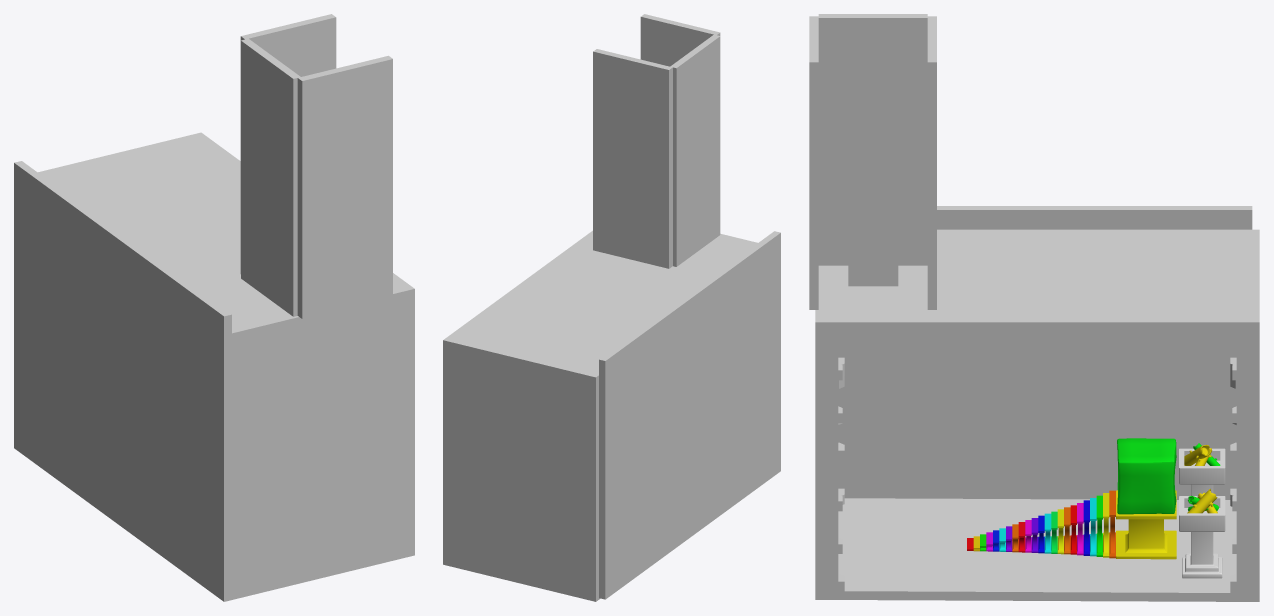
The model's file is LevelEnd.fbx.
The picture shows the model from 3 angles, left to right: view 1: azimuth 30°, elevation 25°; view 2: azimuth 150°, elevation 25°; view 3: azimuth 270°, elevation 25°; orthographic projection. The views are drawn at different scales.
Parts seen in each view (by area): view 1: Wall, Wall1_Lopoly.059, Wall1_Lopoly.073, Wall1_Lopoly.071, Wall1_Lopoly.077, Wall1_Lopoly.075, Wall1_Lopoly.062, Wall1_Lopoly.060, Wall1_Lopoly.072, Wall1_Lopoly.074, Wall1_Lopoly.076, Wall1_Lopoly.078 (+59 smaller); view 2: Wall, Wall1_Lopoly.061, Wall1_Lopoly.060, Wall1_Lopoly.063, Wall1_Lopoly.069, Wall1_Lopoly.065, Wall1_Lopoly.067, Wall1_Lopoly.062, Wall1_Lopoly.064, Wall1_Lopoly.066, Wall1_Lopoly.070, Wall1_Lopoly.068 (+59 smaller); view 3: Wall, Slime, Wall1_Lopoly.057, Wall1_Lopoly.058, Wall1_Lopoly.021, Wall1_Lopoly.049, Wall1_Lopoly.051, Wall1_Lopoly.055, Wall1_Lopoly.013, Wall1_Lopoly.053, Cube.057, Wall1_Lopoly.011 (+45 smaller).
Part boxes in pixels (x1,y1,x2,y2): Wall: [38, 132, 414, 599]; Wall1_Lopoly.059: [297, 67, 347, 128]; Wall1_Lopoly.073: [297, 165, 347, 223]; Wall1_Lopoly.071: [297, 117, 347, 176]; Wall1_Lopoly.077: [297, 260, 347, 318]; Wall1_Lopoly.075: [297, 213, 347, 271]; Wall1_Lopoly.062: [286, 14, 336, 74]; Wall1_Lopoly.060: [343, 55, 392, 117]; Wall1_Lopoly.072: [347, 106, 392, 164]; Wall1_Lopoly.074: [347, 154, 392, 212]; Wall1_Lopoly.076: [347, 202, 392, 260]; Wall1_Lopoly.078: [347, 249, 392, 307]; Wall: [443, 230, 757, 601]; Wall1_Lopoly.061: [631, 58, 672, 109]; Wall1_Lopoly.060: [640, 14, 681, 64]; Wall1_Lopoly.063: [631, 100, 672, 149]; Wall1_Lopoly.069: [631, 220, 672, 268]; Wall1_Lopoly.065: [631, 140, 672, 189]; Wall1_Lopoly.067: [631, 180, 672, 228]; Wall1_Lopoly.062: [593, 49, 634, 100]; Wall1_Lopoly.064: [593, 91, 630, 140]; Wall1_Lopoly.066: [593, 131, 630, 179]; Wall1_Lopoly.070: [593, 210, 630, 259]; Wall1_Lopoly.068: [593, 171, 630, 219]; Wall: [815, 229, 1259, 601]; Slime: [1117, 438, 1176, 514]; Wall1_Lopoly.057: [818, 14, 873, 67]; Wall1_Lopoly.058: [873, 14, 927, 67]; Wall1_Lopoly.021: [1033, 358, 1088, 407]; Wall1_Lopoly.049: [818, 216, 873, 265]; Wall1_Lopoly.051: [818, 166, 873, 215]; Wall1_Lopoly.055: [818, 67, 873, 116]; Wall1_Lopoly.013: [1033, 408, 1088, 457]; Wall1_Lopoly.053: [818, 117, 873, 166]; Cube.057: [1179, 496, 1225, 578]; Wall1_Lopoly.011: [924, 408, 978, 457].
Size of the model in its own units: 7616 by 19324 by 14968.
